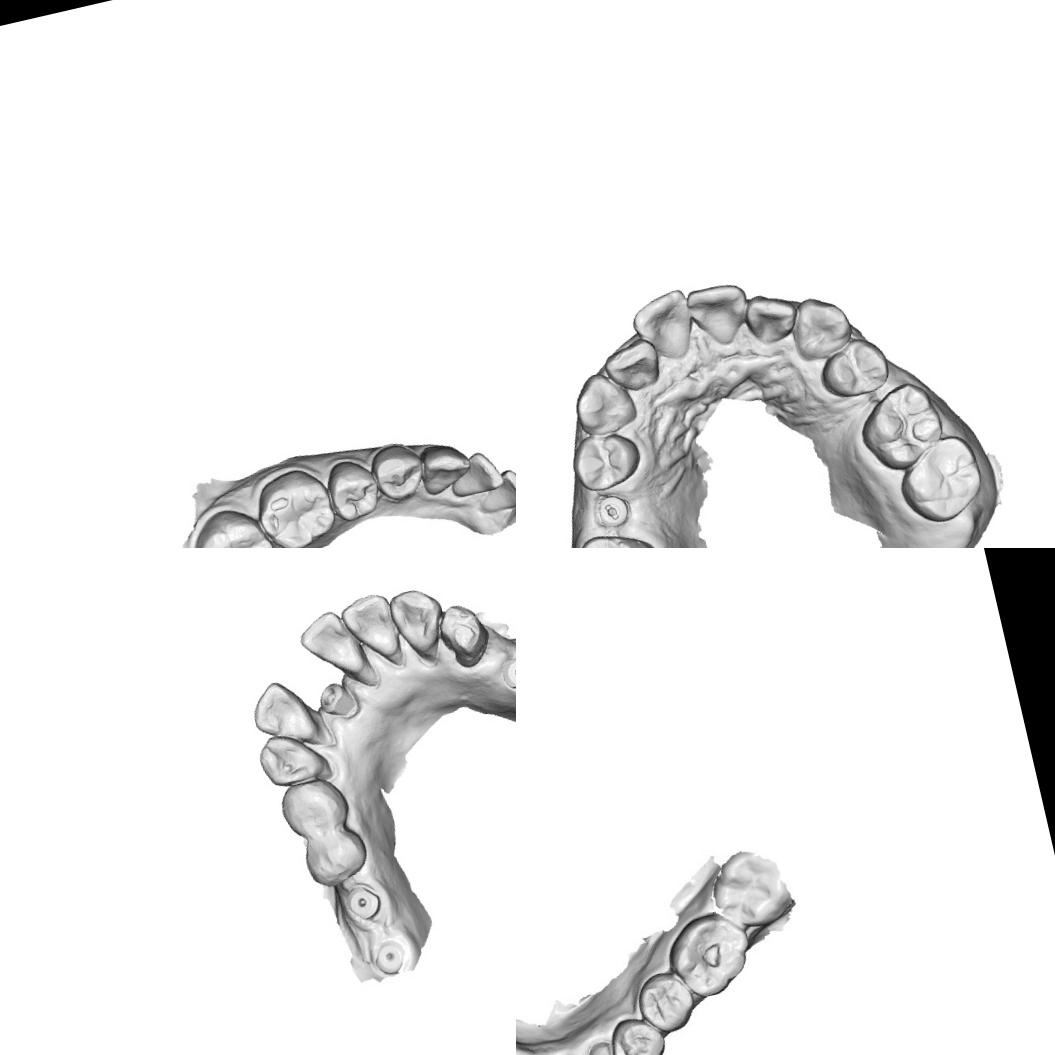canine: (250, 722, 333, 792), (566, 366, 642, 442), (784, 290, 858, 366), (384, 582, 452, 660), (414, 435, 476, 498), (575, 1036, 635, 1055)
implant: (314, 677, 358, 722), (342, 882, 384, 924), (368, 936, 410, 976), (498, 652, 516, 691)
implant_minus: (592, 489, 634, 531)
incisor: (626, 285, 700, 368), (294, 602, 367, 684), (682, 277, 756, 352), (244, 673, 316, 749), (336, 588, 404, 666), (599, 334, 665, 397), (740, 286, 803, 349), (444, 446, 506, 498), (473, 464, 516, 515)
molar: (890, 428, 992, 531), (850, 376, 952, 478), (660, 906, 755, 1006), (701, 841, 797, 937), (247, 460, 342, 548), (184, 499, 281, 548), (570, 521, 667, 548)
premolar: (565, 424, 647, 497), (273, 771, 355, 842), (814, 332, 894, 404), (299, 822, 373, 891), (320, 454, 388, 526), (630, 966, 698, 1038), (366, 438, 430, 507), (433, 598, 493, 665), (606, 1012, 671, 1055)
